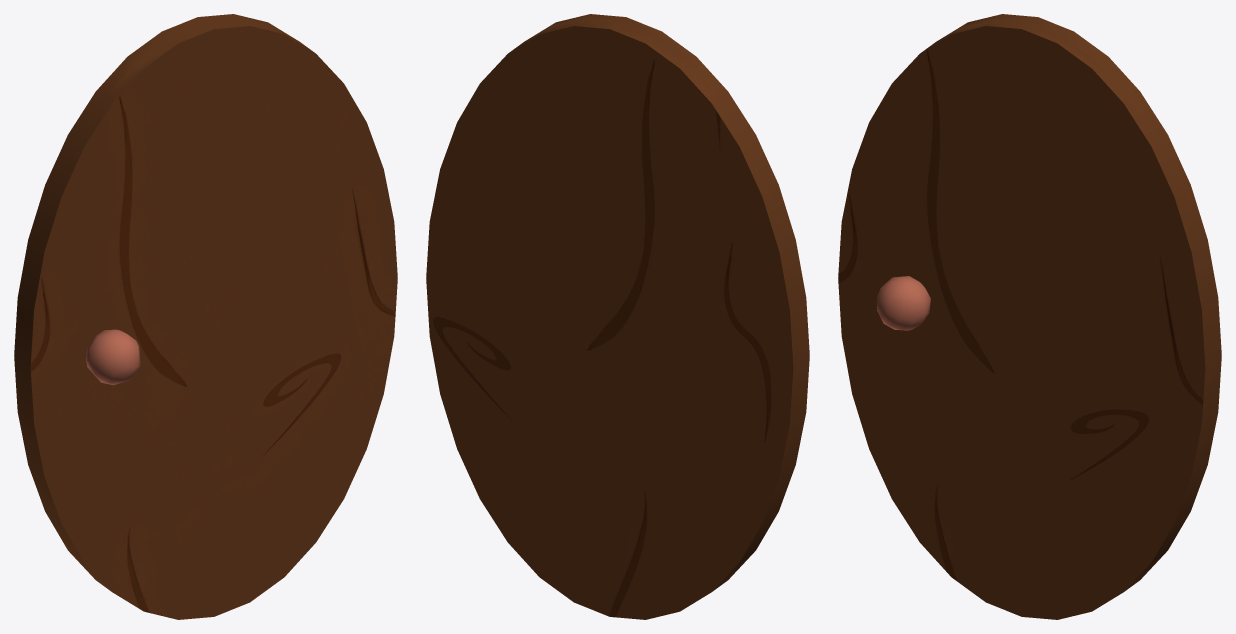
File: door.glb
3 views of the same model, side by side, from view 1: azimuth 30°, elevation 25°; view 2: azimuth 150°, elevation 25°; view 3: azimuth 330°, elevation 25° (orthographic).
Parts seen in each view (by area): view 1: ZecoraHut_door; view 2: ZecoraHut_door; view 3: ZecoraHut_door.
Part boxes in pixels (<box>): ZecoraHut_door: <box>14,14,397,619</box>; ZecoraHut_door: <box>426,14,809,619</box>; ZecoraHut_door: <box>838,14,1221,619</box>.
Bounding box in the file's own units: 1.85 × 2.83 × 0.3449.
2 materials, 2 textured.
